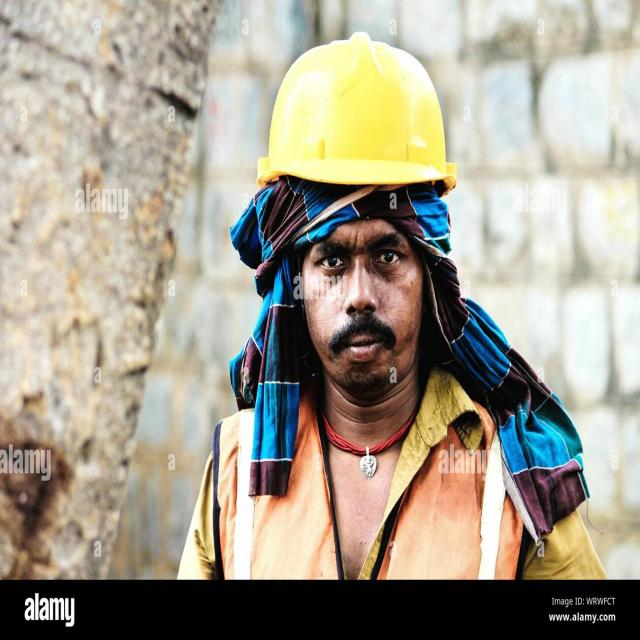Reflective-Jacket: (205, 359, 533, 573)
Safety-Helmet: (256, 29, 458, 193)
